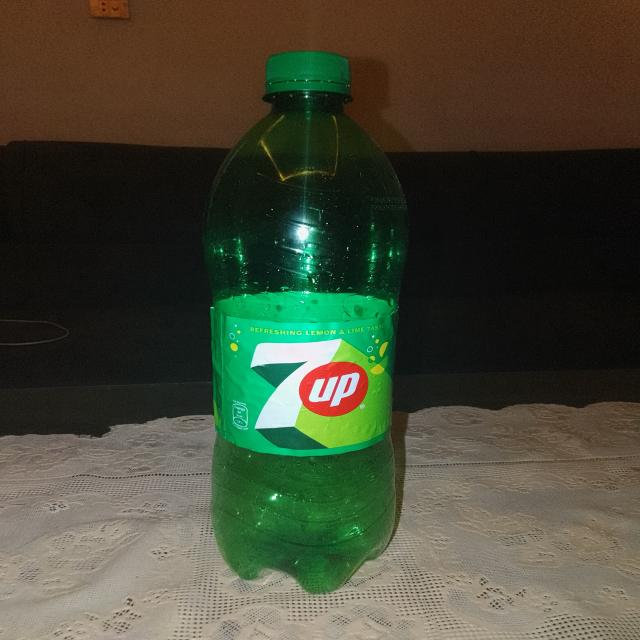bottle: (201, 37, 416, 599)
cap: (255, 42, 362, 107)
label: (209, 284, 403, 462)
